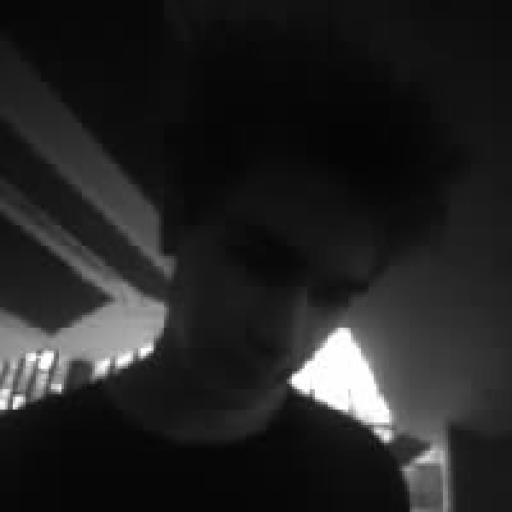human: (0, 21, 460, 511)
